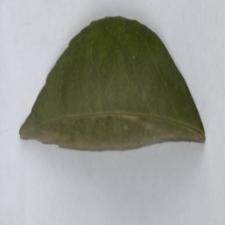Healthy: (41, 22, 188, 172)
